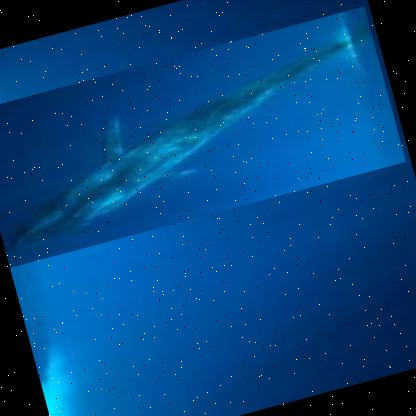blue_whale: (0, 5, 407, 270)
